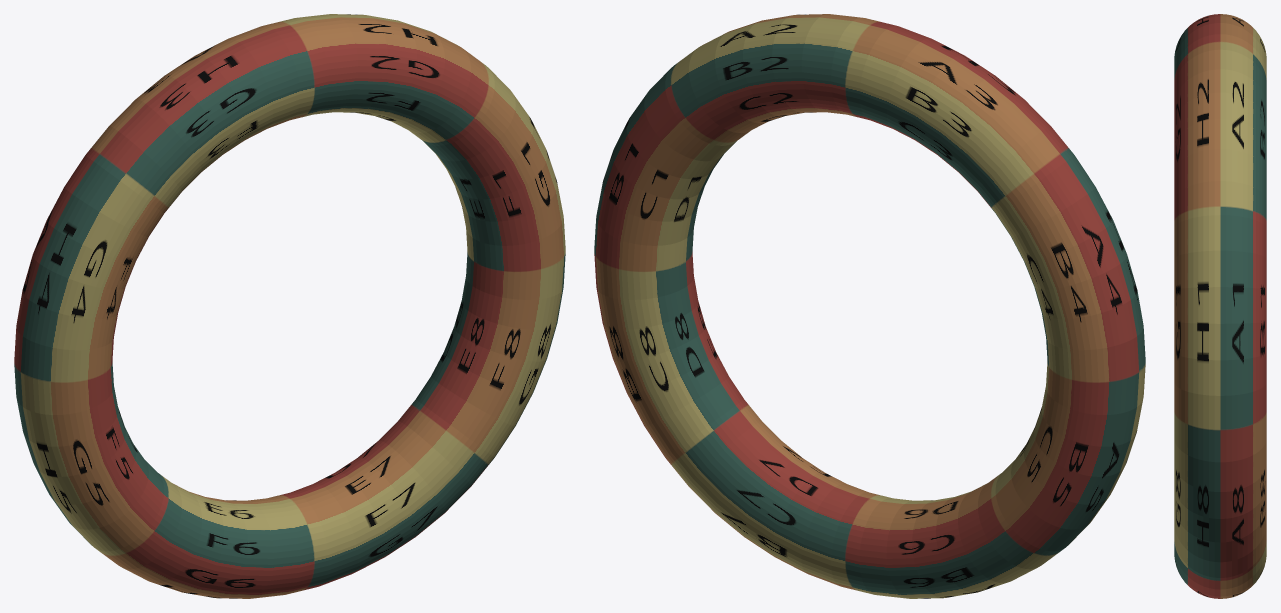
Rendered from texture_torus_R18_r8.glb.
3 renders of one model, left to right at view 1: azimuth 30°, elevation 25°; view 2: azimuth 150°, elevation 25°; view 3: azimuth 270°, elevation 25°, orthographic. The views are drawn at different scales.
Visible parts, largest first — view 1: world; view 2: world; view 3: world.
Boxes of the visible parts, x1,y1,x2,y2 form: world: (14,14,565,598); world: (594,14,1145,598); world: (1174,14,1266,598).
Bounding box in the file's own units: 26.13 × 26.08 × 4.13.
1 material, 1 textured.
